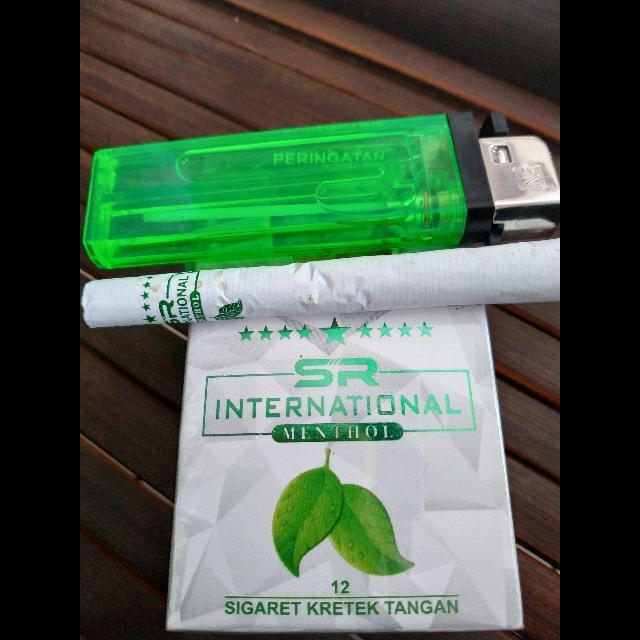rokok: (80, 228, 560, 338)
